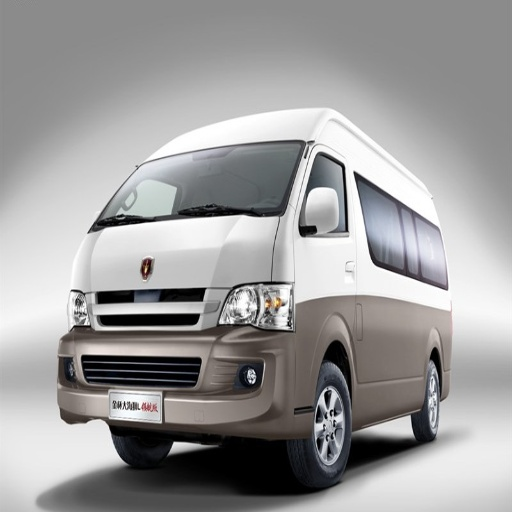front_bumper: (59, 287, 318, 438)
front_glass: (95, 144, 304, 229)
front_left_door: (297, 146, 354, 274), (357, 314, 391, 385)
trunk: (391, 306, 448, 354)
